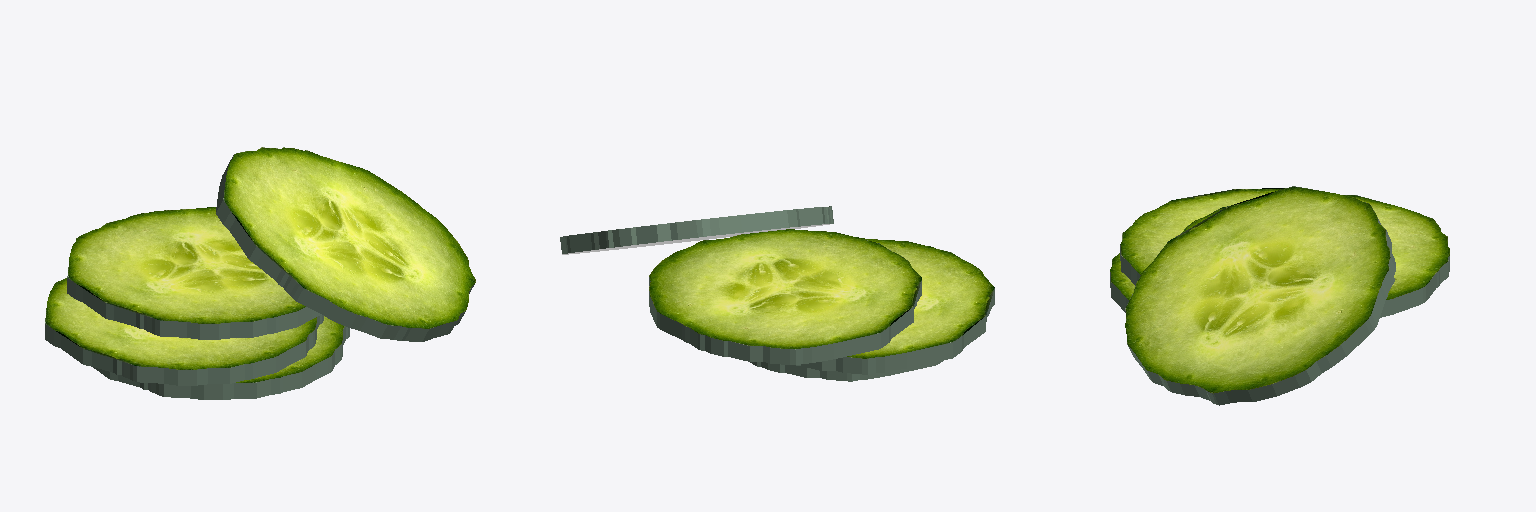
3 views of the same model, side by side, from view 1: azimuth 30°, elevation 25°; view 2: azimuth 150°, elevation 25°; view 3: azimuth 270°, elevation 25° (orthographic).
Parts seen in each view (by area): view 1: Mesh4 Group4 Model, Mesh3 Group3 Model, Mesh2 Group2 Model, Mesh1 Group1 Model; view 2: Mesh3 Group3 Model, Mesh2 Group2 Model, Mesh4 Group4 Model, Mesh1 Group1 Model; view 3: Mesh4 Group4 Model, Mesh3 Group3 Model, Mesh2 Group2 Model, Mesh1 Group1 Model.
Boxes of the visible parts, <box> form: Mesh4 Group4 Model: <box>216,147,475,341</box>; Mesh3 Group3 Model: <box>67,207,321,339</box>; Mesh2 Group2 Model: <box>45,278,323,385</box>; Mesh1 Group1 Model: <box>93,316,349,399</box>; Mesh3 Group3 Model: <box>649,229,921,364</box>; Mesh2 Group2 Model: <box>794,238,994,374</box>; Mesh4 Group4 Model: <box>560,206,833,254</box>; Mesh1 Group1 Model: <box>750,360,943,381</box>; Mesh4 Group4 Model: <box>1125,186,1395,405</box>; Mesh3 Group3 Model: <box>1182,195,1449,317</box>; Mesh2 Group2 Model: <box>1120,188,1284,285</box>; Mesh1 Group1 Model: <box>1110,253,1134,312</box>.
Bounding box in the file's own units: 6.49 × 1.99 × 4.83.
Materials: 3 (1 with a texture image).